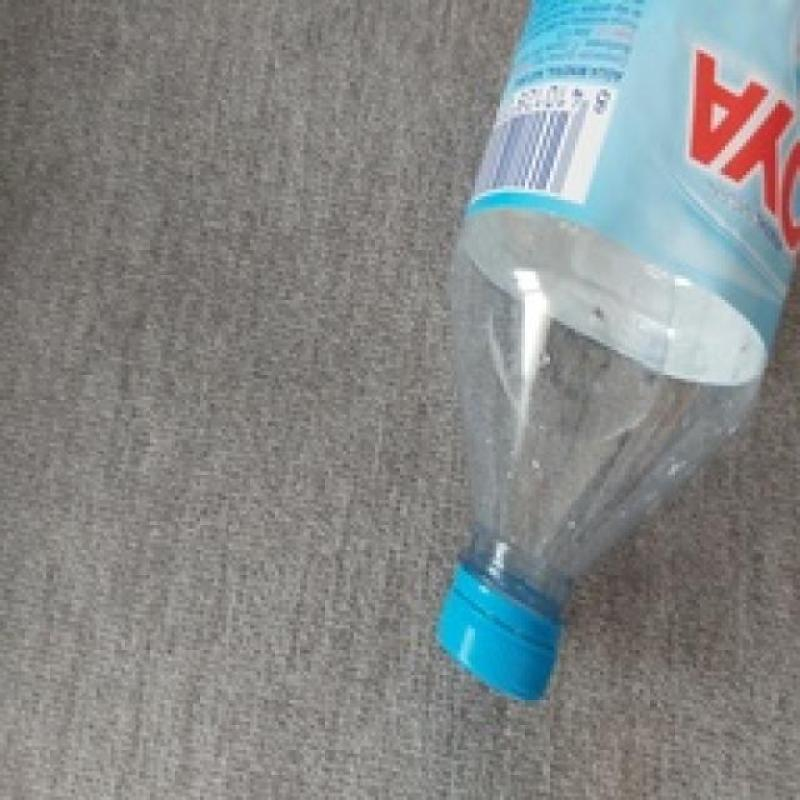botella: (435, 0, 800, 700)
